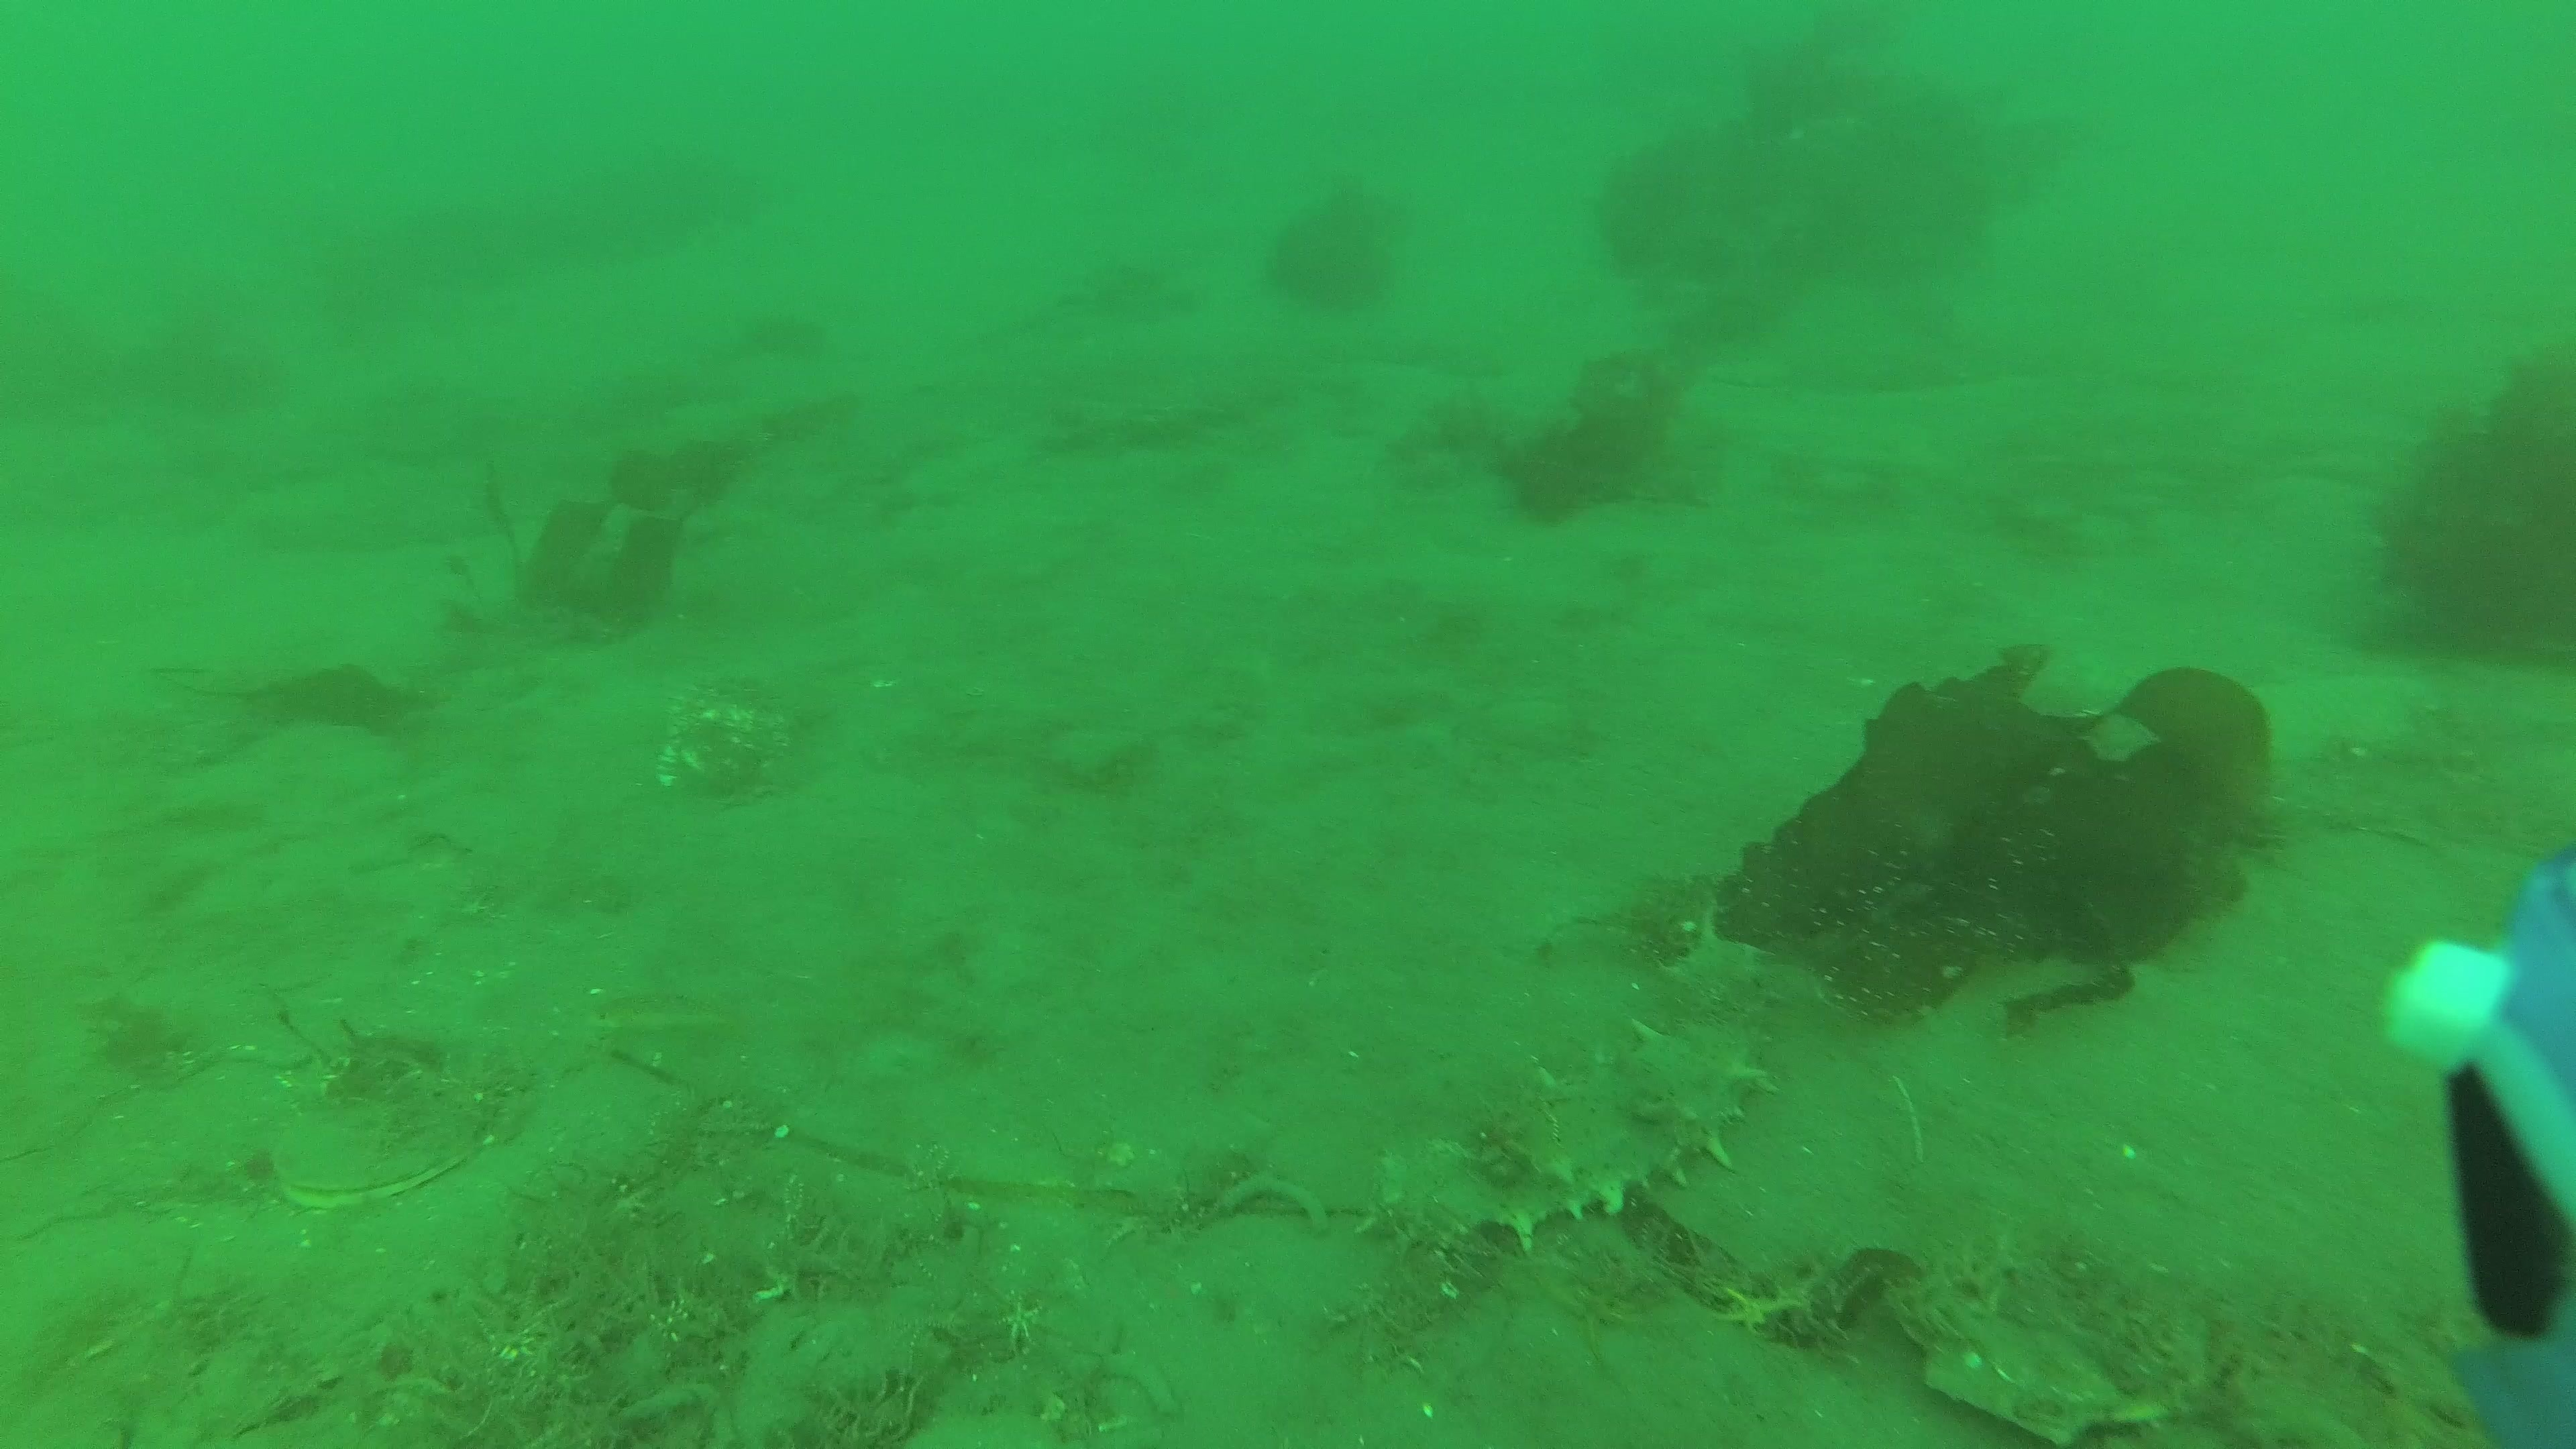holothurian: (1346, 1008, 1778, 1251)
scallop: (1882, 1230, 2224, 1449), (272, 1063, 508, 1210)
